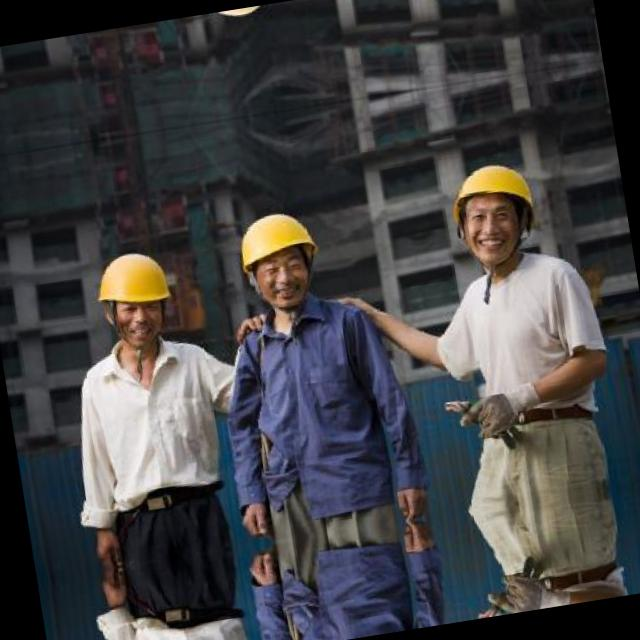helmet: (433, 140, 548, 278), (82, 231, 188, 358), (224, 192, 330, 318), (404, 0, 508, 20)
